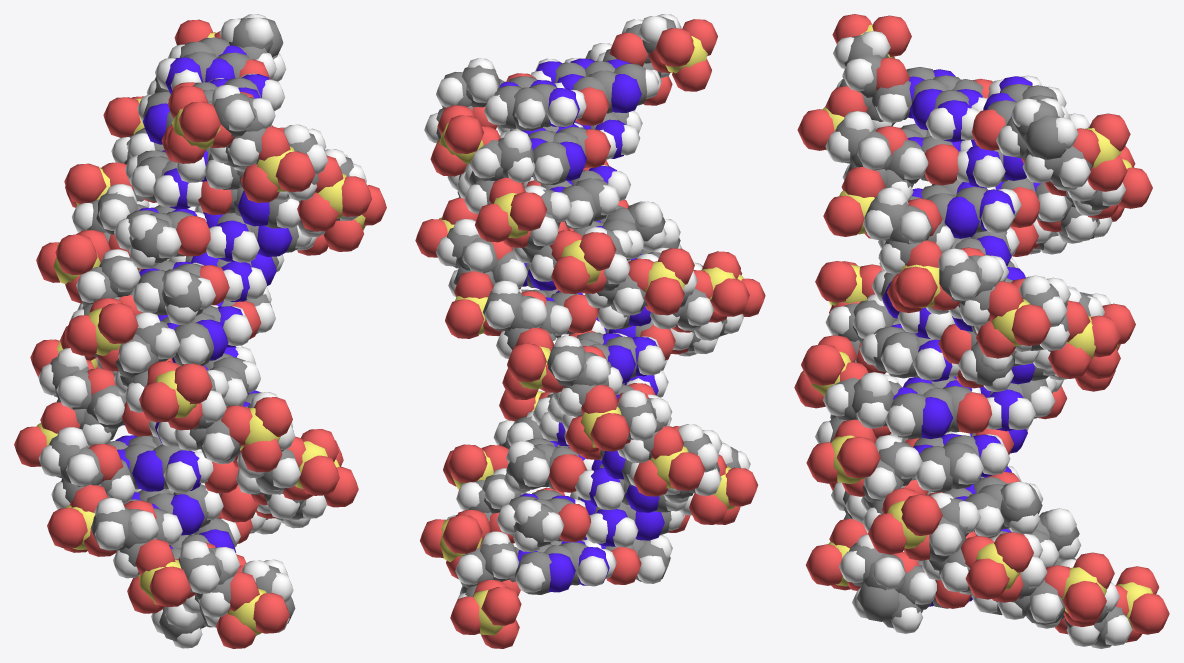
The model's file is dna_vdw_combined.fbx.
The picture shows the model from 3 angles, left to right: view 1: azimuth 30°, elevation 25°; view 2: azimuth 150°, elevation 25°; view 3: azimuth 270°, elevation 25°; orthographic projection. The views are drawn at different scales.
Visible parts, largest first — view 1: sphere_superlow_7; view 2: sphere_superlow_7; view 3: sphere_superlow_7.
Part boxes in pixels (x1=…): sphere_superlow_7: x1=14, y1=14, x2=386, y2=648; sphere_superlow_7: x1=415, y1=14, x2=765, y2=648; sphere_superlow_7: x1=794, y1=14, x2=1169, y2=648.
Size of the model in its own units: 129 by 223 by 128.
